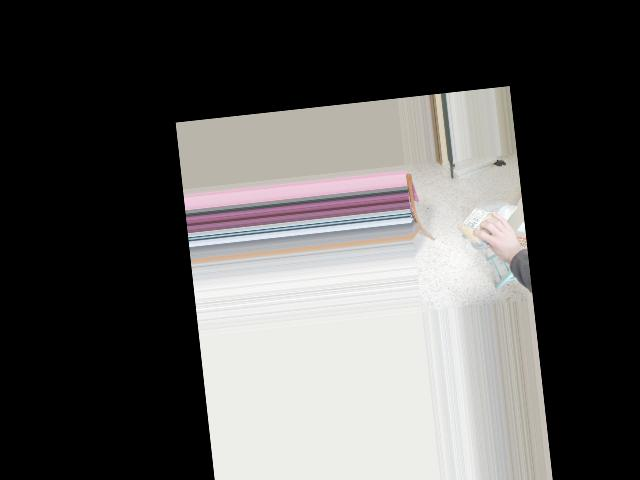cheese: (458, 201, 521, 240)
